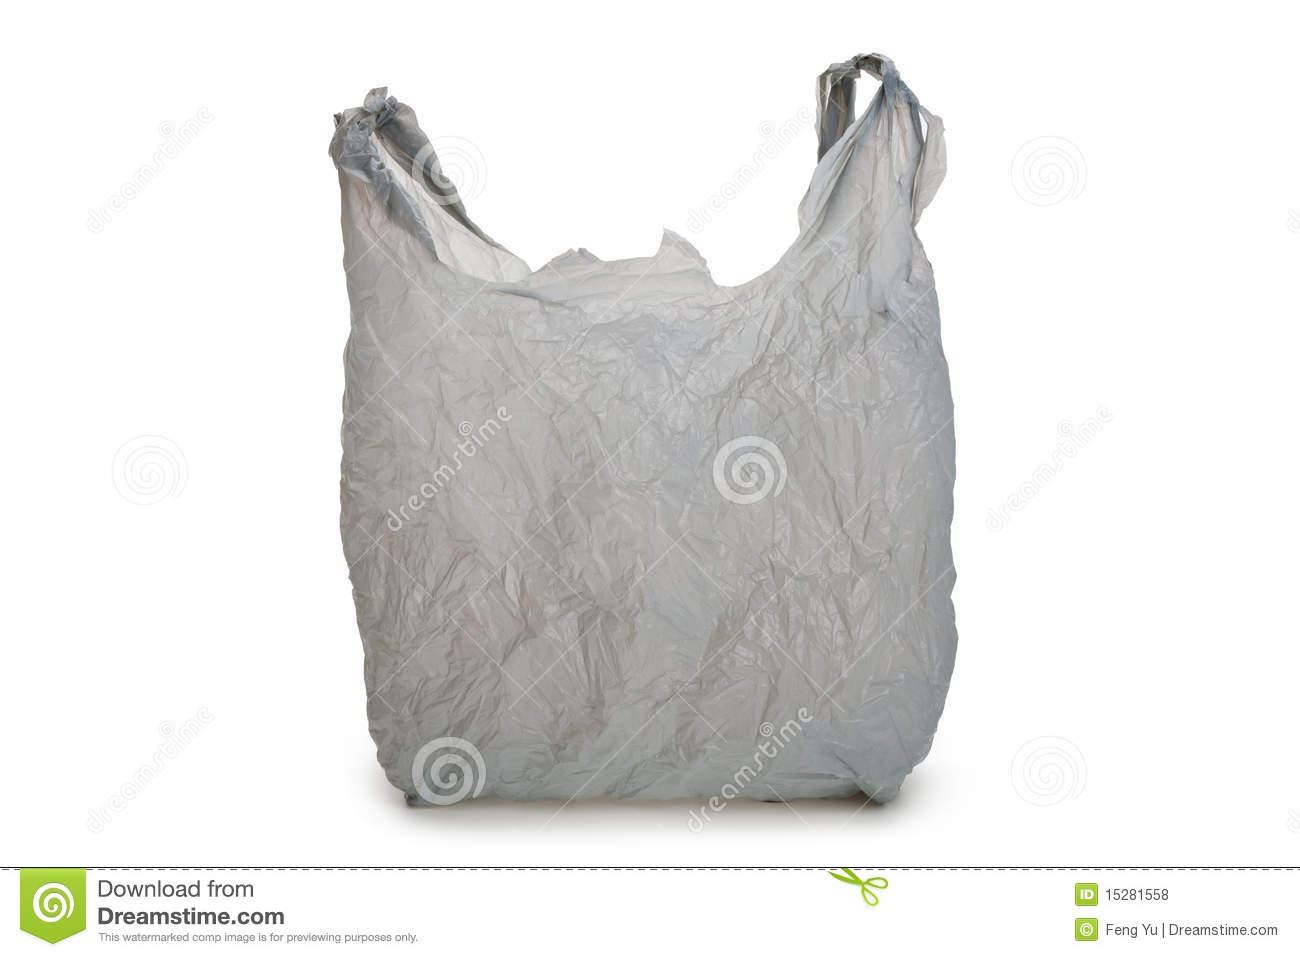flexible: (313, 48, 980, 826)
